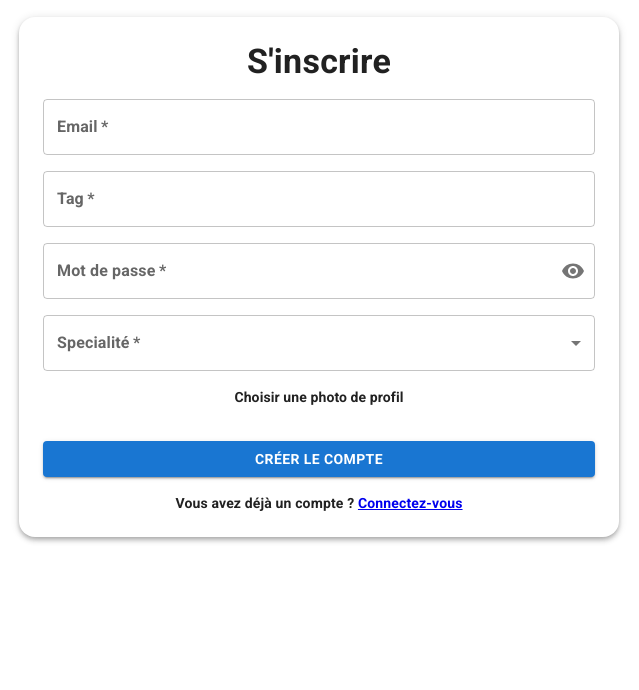
Scenario: RegisterPage › shows a success message and redirects to login after registration
Type "lea@mail.com" into the field labelled "Email *". click: point(319, 127)
box: [43,99,595,155]
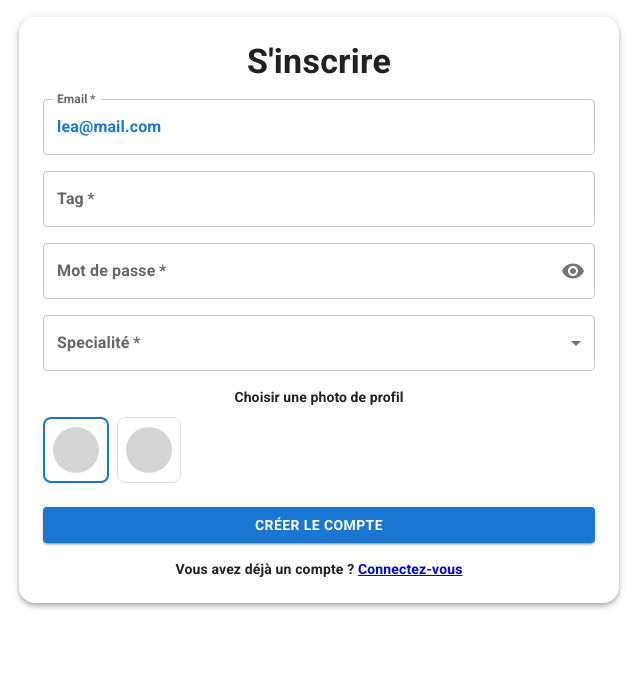
Type "lea" into the field labelled "Tag *". click: point(319, 199)
box: [43,171,595,227]
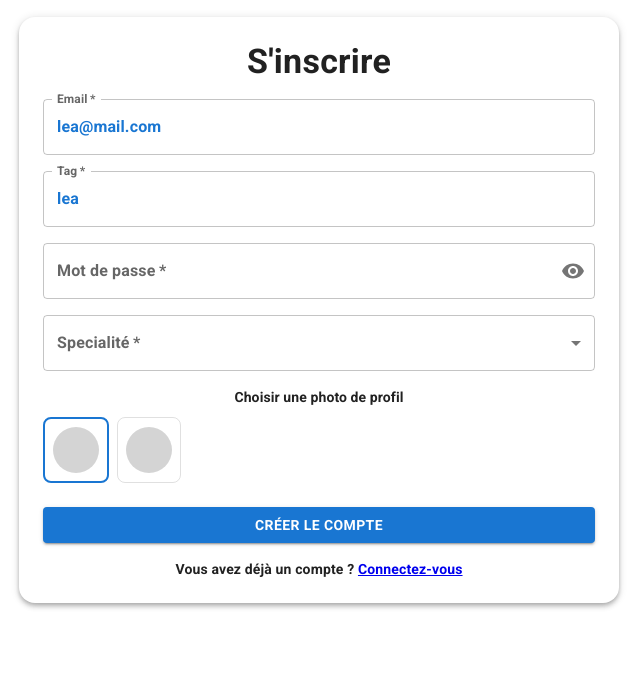
Type "Password123" into the password field labelled "Mot de passe *". click: point(294, 271)
box: [43,243,545,299]
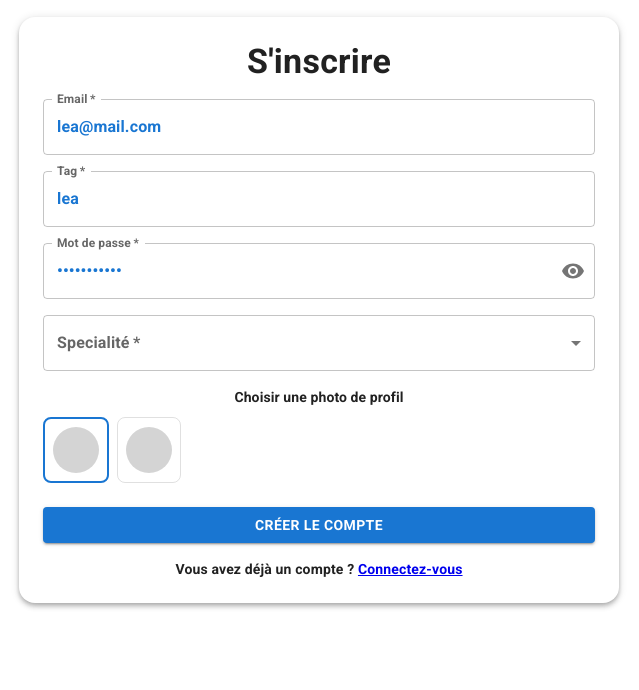
Press the mouse on the dropdown at point(319, 343), box [43,315,595,371]
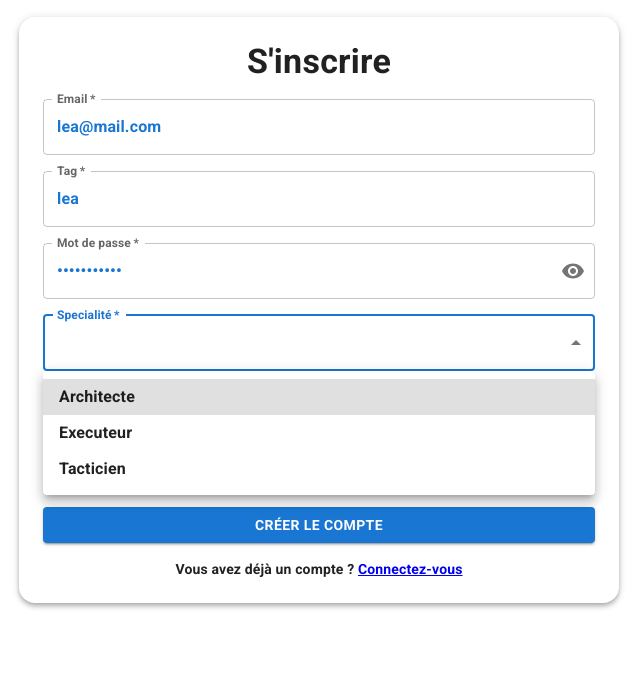
Click the option "Architecte". click: point(97, 396)
box: [43,379,595,415]
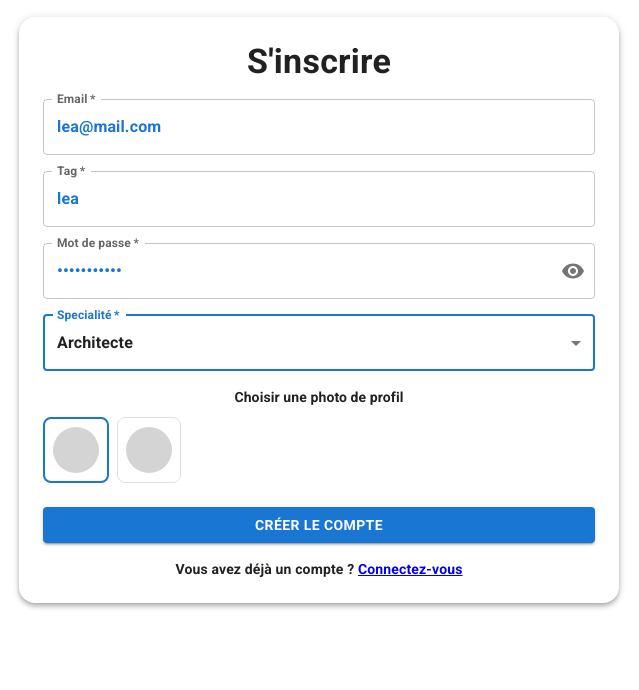
Submit the form, box [43,99,595,544]
Wait 1200 ms
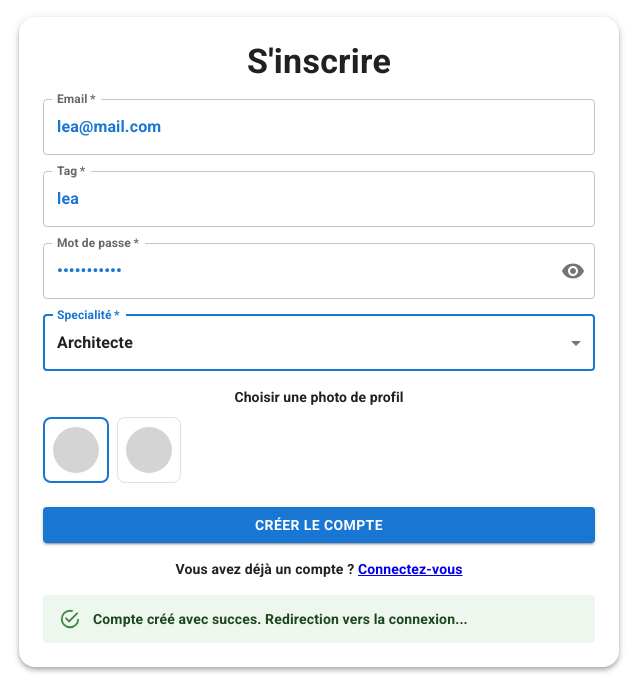
Check: the text "Compte créé avec succes. Redirection vers la connexion..." is shown, box [93,612,468,628]
